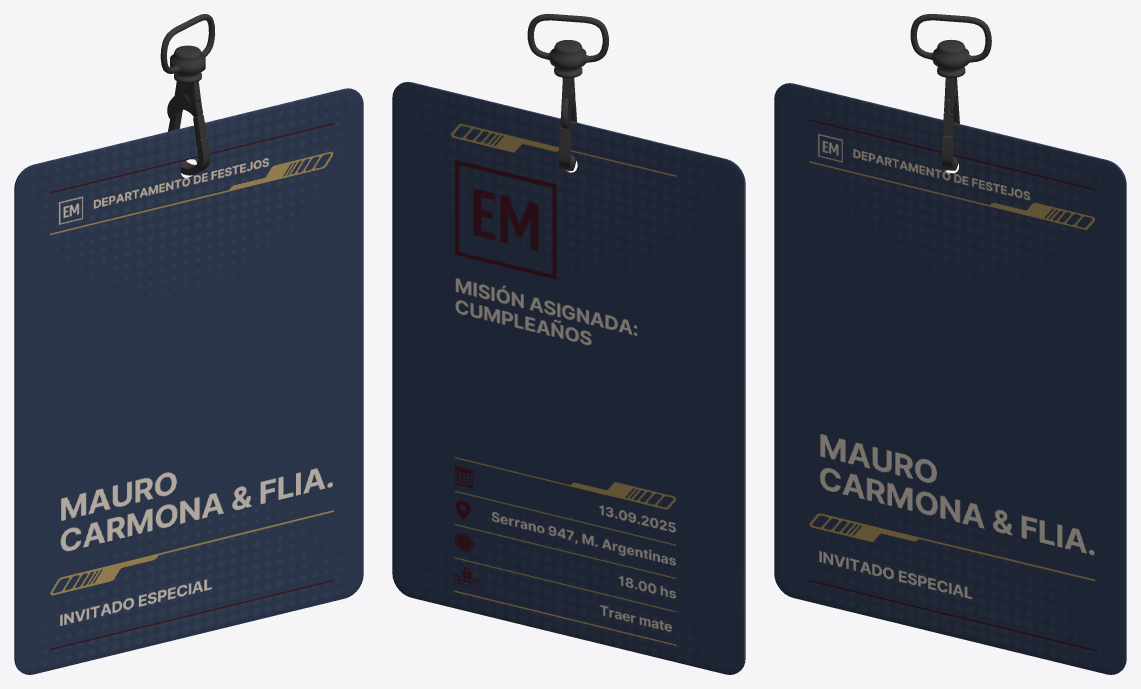
Rendered from mauro-carmona.glb.
3 renders of one model, left to right at view 1: azimuth 30°, elevation 25°; view 2: azimuth 150°, elevation 25°; view 3: azimuth 330°, elevation 25°, orthographic.
Visible parts, largest first — view 1: card, clamp, clip; view 2: card, clip, clamp; view 3: card, clip, clamp.
Boxes of the visible parts, box(x1,y1,x2,y2) form: card: box(14, 88, 363, 674); clamp: box(167, 81, 210, 175); clip: box(160, 14, 214, 83); card: box(392, 82, 745, 674); clip: box(527, 14, 608, 78); clamp: box(558, 77, 577, 170); card: box(774, 83, 1126, 674); clip: box(910, 14, 991, 77); clamp: box(941, 77, 959, 170).
Size of the model in its own units: 0.7164 by 1.21 by 0.0903.
2 materials, 1 textured.
